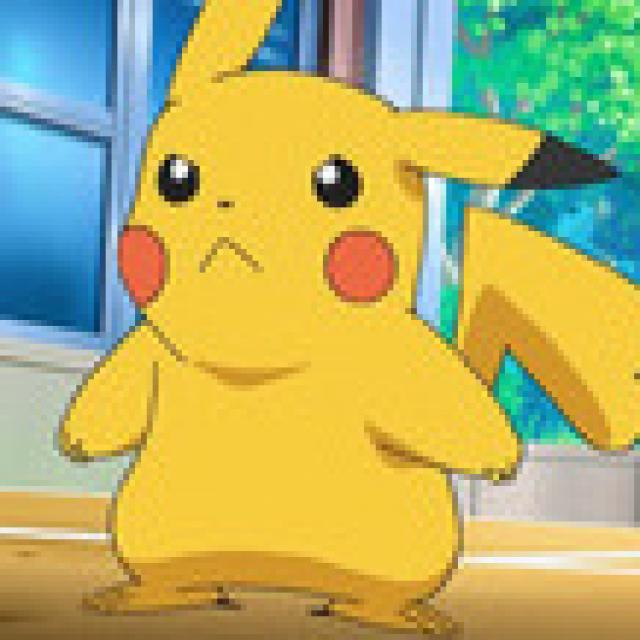Pikachu: (86, 68, 494, 612)
